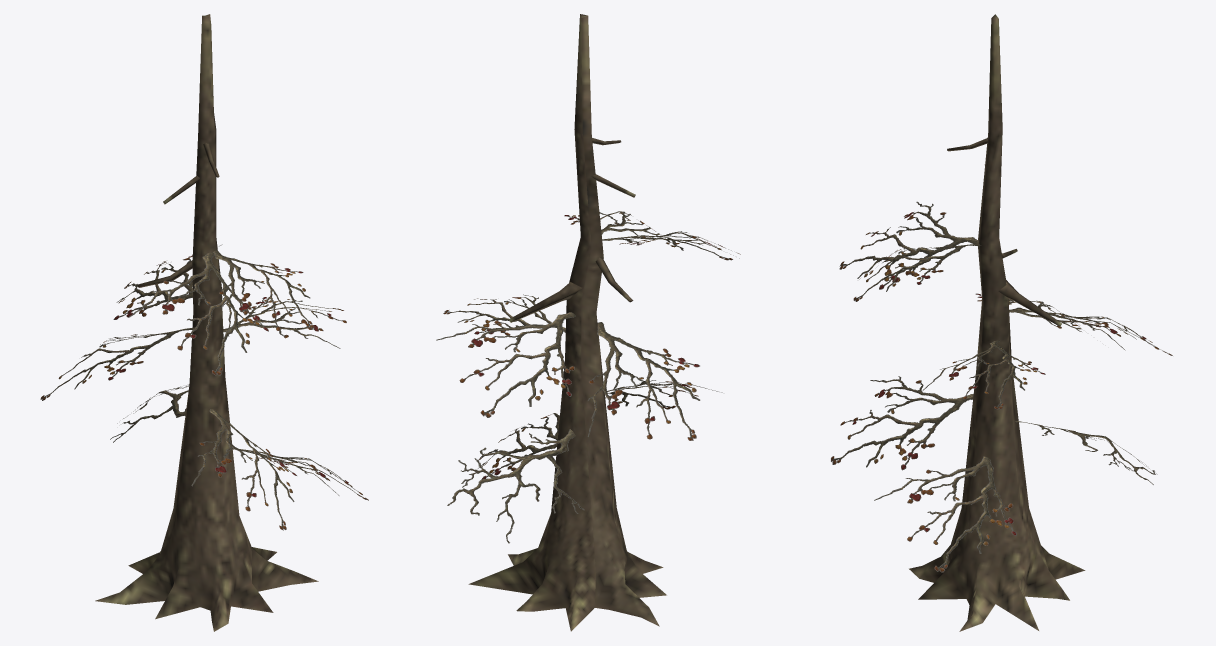
File: Scene_Tree_05.FBX
The picture shows the model from 3 angles, left to right: view 1: azimuth 30°, elevation 25°; view 2: azimuth 150°, elevation 25°; view 3: azimuth 270°, elevation 25°; orthographic projection.
Parts seen in each view (by area): view 1: Scene_Tree_05; view 2: Scene_Tree_05; view 3: Scene_Tree_05.
Part boxes in pixels (bbox=[...]): Scene_Tree_05: bbox=[40, 14, 368, 631]; Scene_Tree_05: bbox=[436, 14, 740, 631]; Scene_Tree_05: bbox=[831, 14, 1172, 631].
Size of the model in its own units: 4.79 by 8.7 by 5.51.
